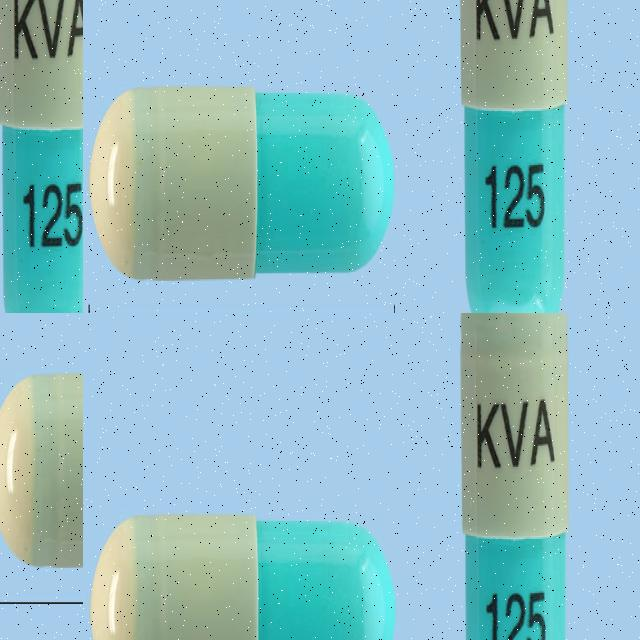Dr- Bearse: (28, 388, 83, 640)
Kivexa: (0, 113, 46, 313)
Levoflcin: (88, 0, 337, 285), (372, 0, 619, 281)
Vancozin Cap-250mg: (91, 509, 396, 640), (459, 313, 571, 640)
